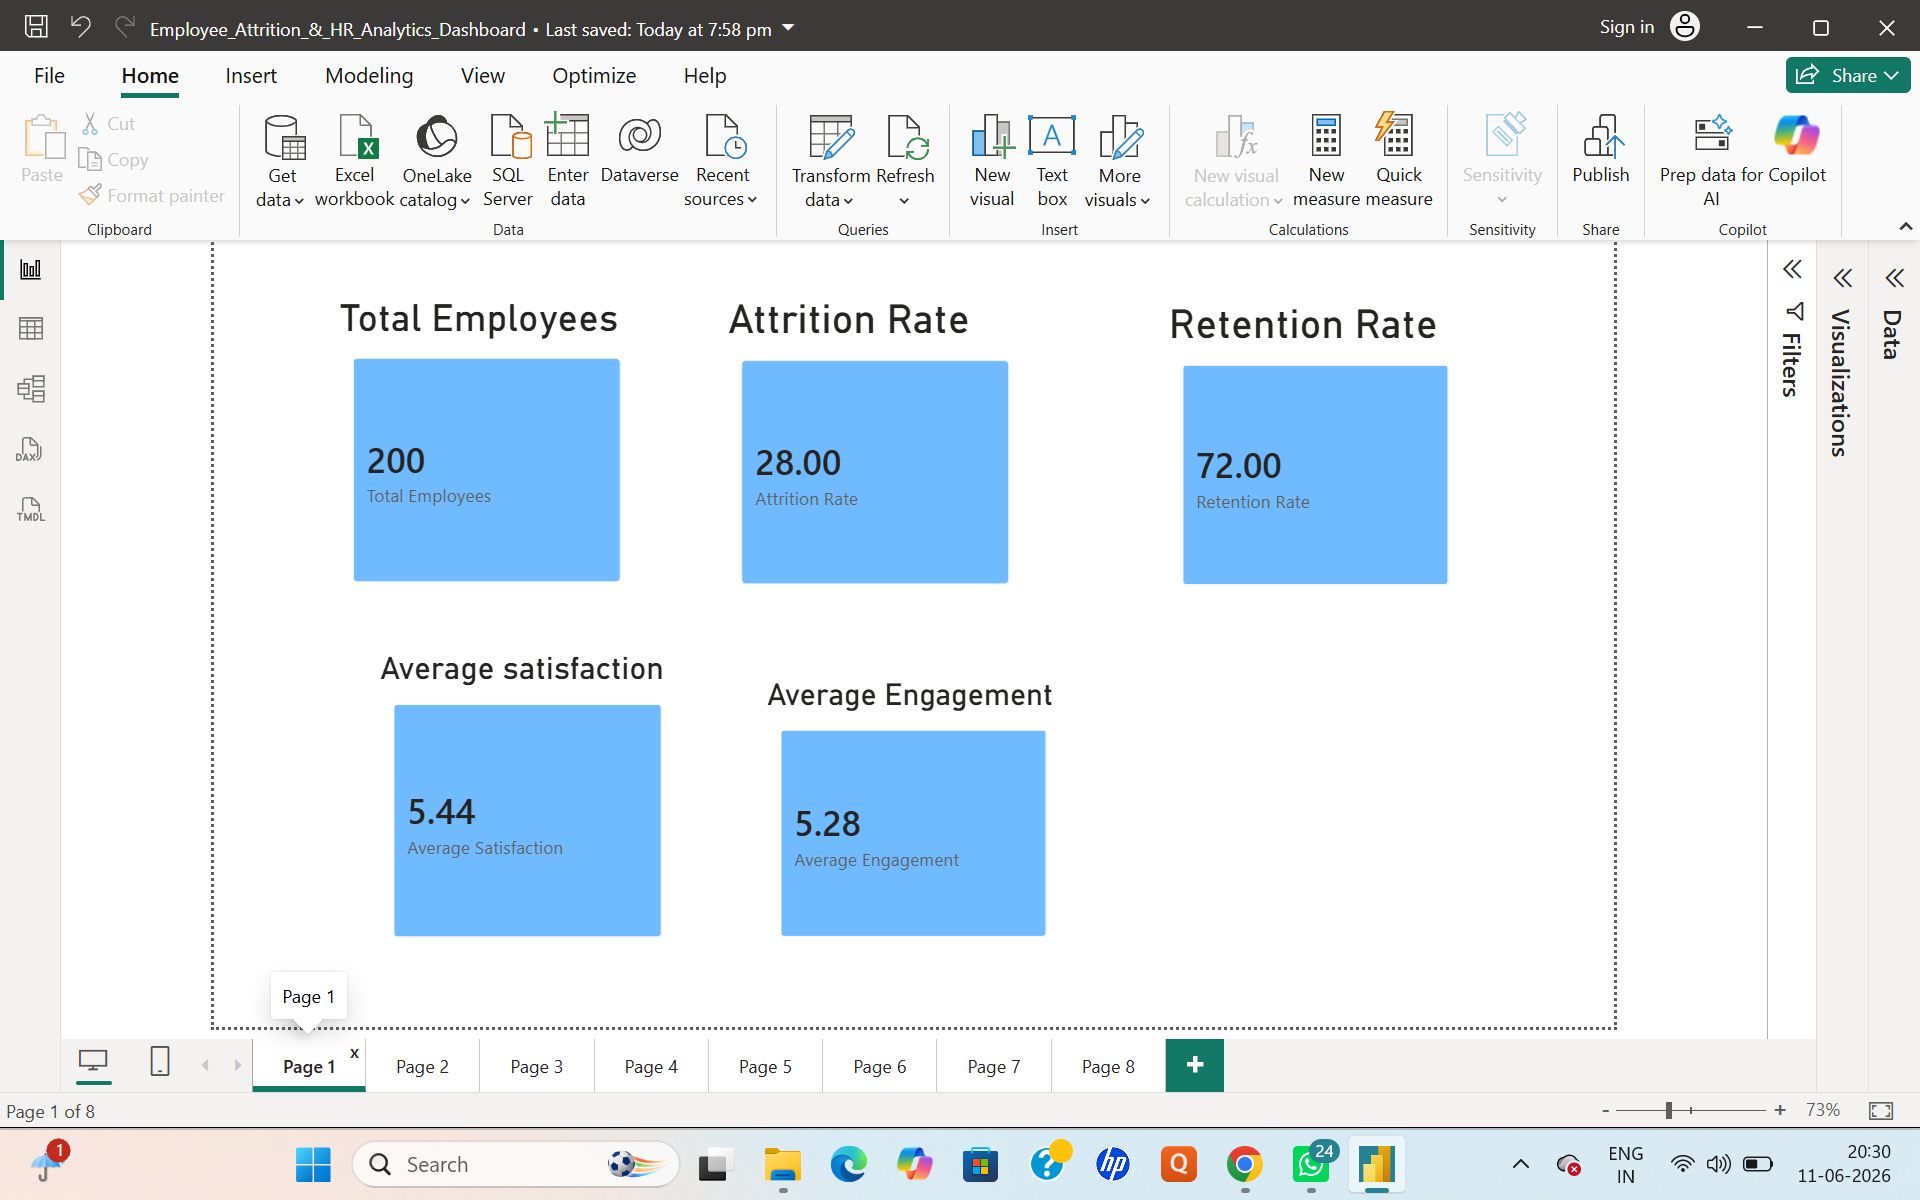

The page's visual inventory and layout, read from the dashboard file:
{"tool":"powerbi","page":{"name":"Page 1","canvas":[1280,720],"ordinal":0},"visuals":[{"type":"cardVisual","title":"Total Employees","fields":{"Data":["Final_HR_Analytics_Dataset.Total Employees"]},"box":[109.6,51,279.7,279.7],"z":0},{"type":"cardVisual","title":"Average satisfaction","fields":{"Data":["Final_HR_Analytics_Dataset.Average Satisfaction"]},"box":[146.9,374,280.1,281.6],"z":1000},{"type":"cardVisual","title":"Average Engagement","fields":{"Data":["Final_HR_Analytics_Dataset.Average Engagement"]},"box":[501.2,399.8,278.6,255.9],"z":2000},{"type":"cardVisual","title":"Retention Rate","fields":{"Data":["Final_HR_Analytics_Dataset.Retention Rate"]},"box":[869.2,54.5,278.6,278.6],"z":3000},{"type":"cardVisual","title":"Attrition Rate","fields":{"Data":["Final_HR_Analytics_Dataset.Attrition Rate"]},"box":[464.9,51,279.7,281.6],"z":4000}]}

Visuals, with their boxes on the page's 1280x720 design canvas (x1, y1, x2, y2). These are canvas units, not pixel positions in the 1920x1200 screenshot, which may show the page scaled, cropped or inside an application window:
"Total Employees" cardVisual: select_region(110, 51, 389, 331)
"Average satisfaction" cardVisual: select_region(147, 374, 427, 656)
"Average Engagement" cardVisual: select_region(501, 400, 780, 656)
"Retention Rate" cardVisual: select_region(869, 54, 1148, 333)
"Attrition Rate" cardVisual: select_region(465, 51, 745, 333)
